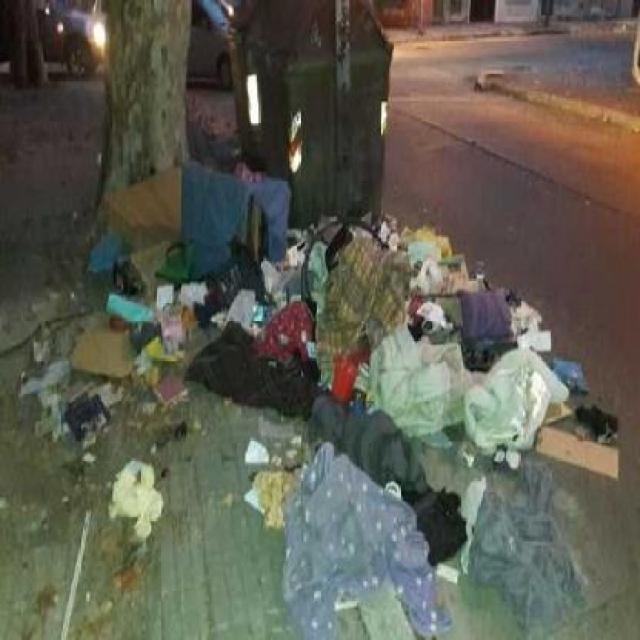garbage: (179, 140, 606, 598), (78, 185, 176, 605), (15, 294, 74, 474)
